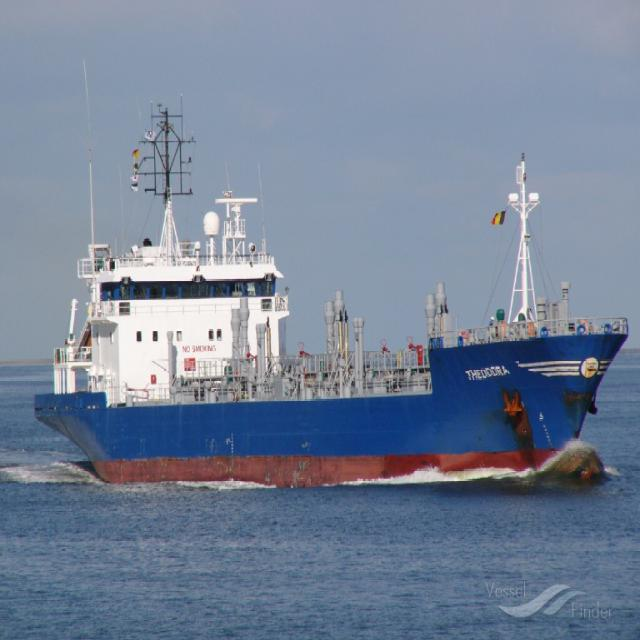OCR: (460, 361, 519, 386)
